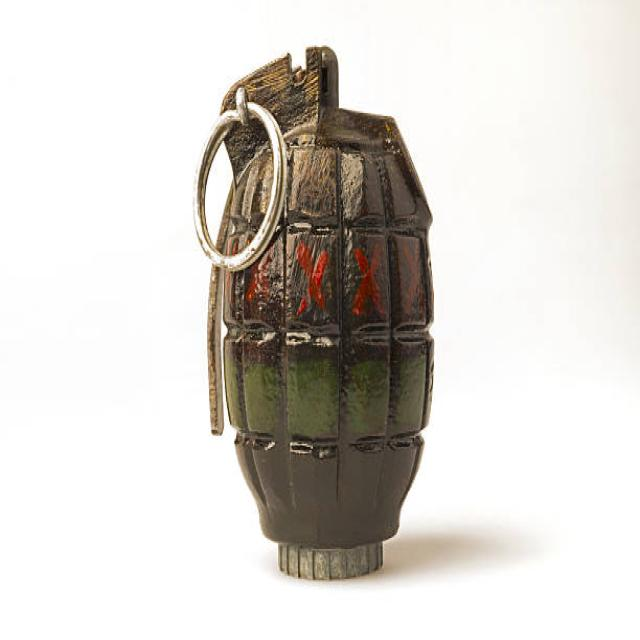grenade: (192, 40, 450, 591)
